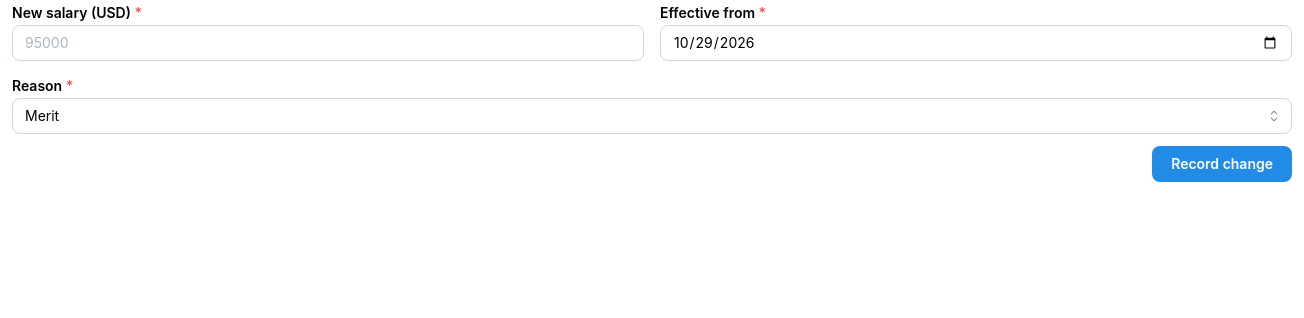
Test: SalaryForm › submitting › shows the server's message when a future date is refused
The image size is (1304, 318).
Type "125000" into the field labelled "New salary (USD) *" at point(328, 43), box [12, 25, 644, 61]
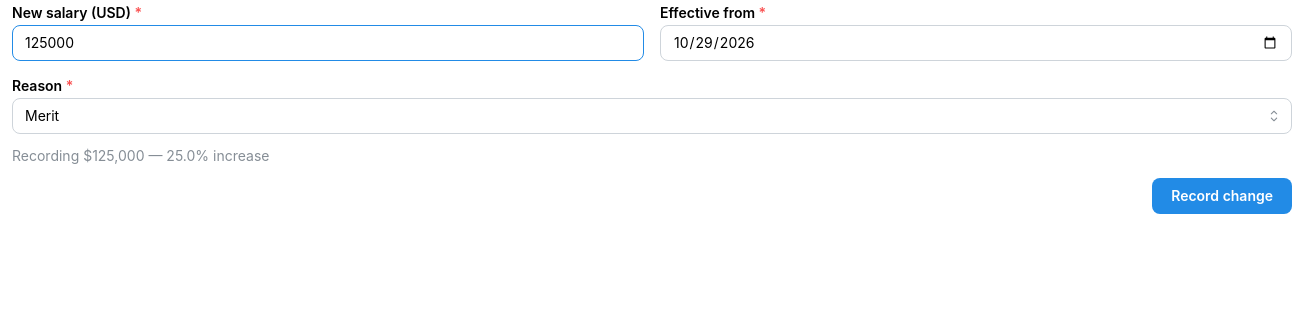
Click the button "Record change" at point(1222, 196), box [1152, 178, 1292, 214]
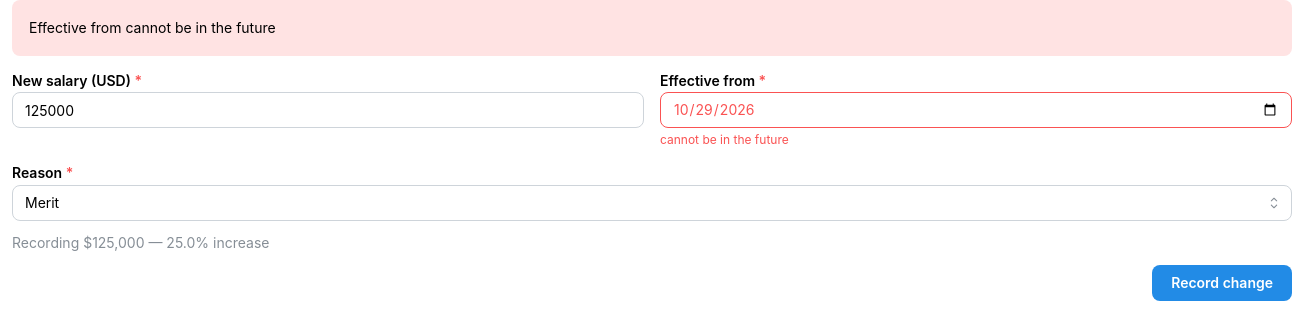
expect the message reads "Effective from cannot be in the future": met, box [29, 19, 276, 36]
